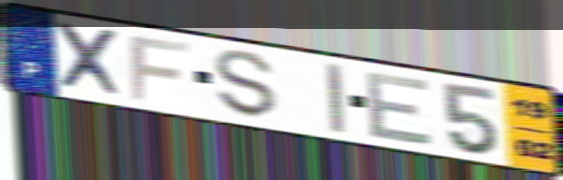5: (439, 79, 501, 157)
E: (364, 69, 437, 147)
F: (127, 34, 194, 103)
I: (322, 61, 349, 136)
S: (211, 48, 280, 121)
X: (50, 19, 130, 102)
